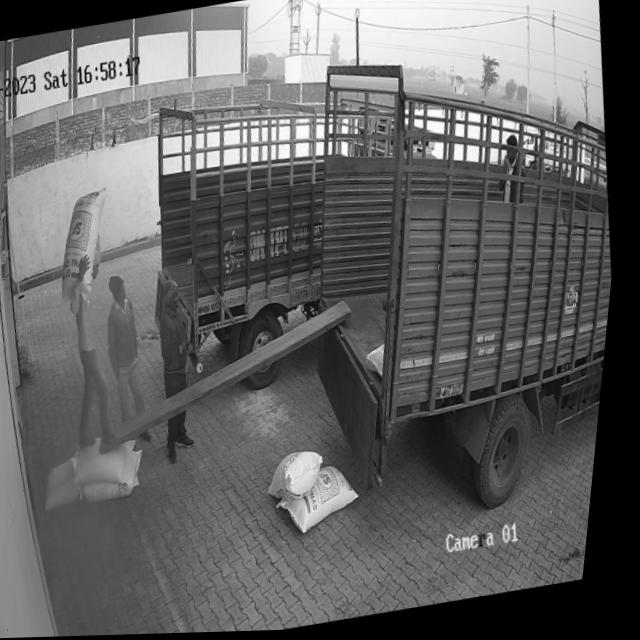sack: (53, 189, 125, 303), (280, 463, 375, 540), (271, 448, 337, 508), (86, 452, 156, 505), (78, 439, 149, 491), (48, 457, 97, 510)
